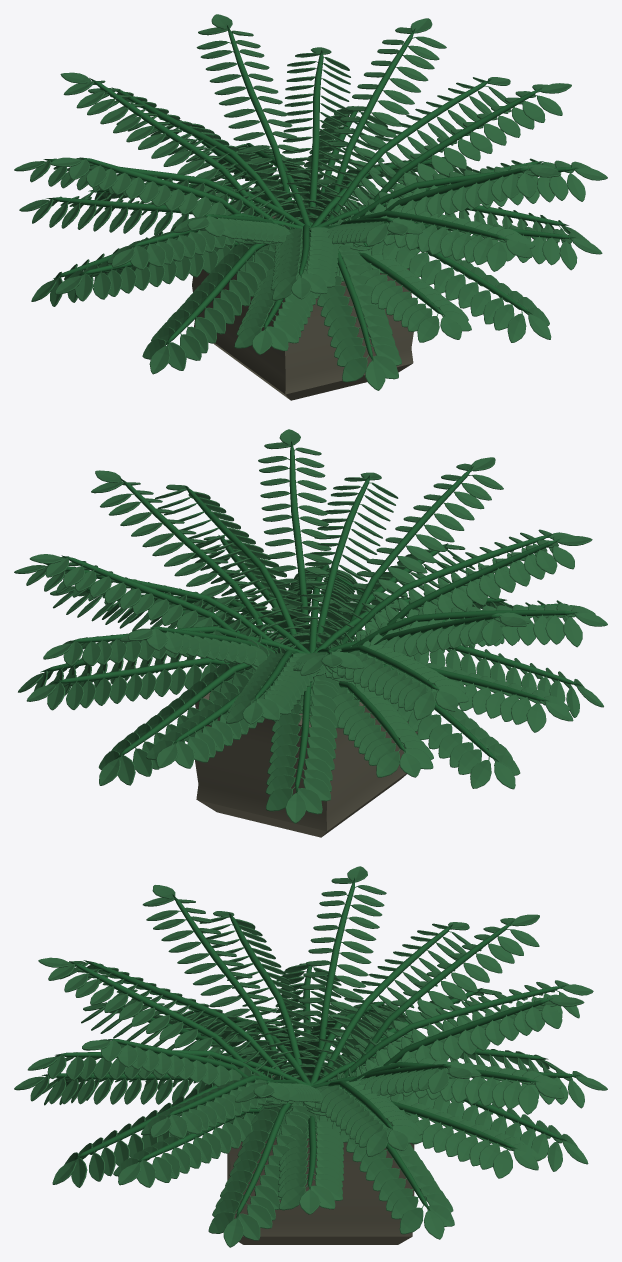
Rendered from plant 3 ferns.fbx.
The picture shows the model from 3 angles, top to bottom: view 1: azimuth 30°, elevation 25°; view 2: azimuth 150°, elevation 25°; view 3: azimuth 270°, elevation 25°; orthographic projection. The views are drawn at different scales.
Visible parts, largest first — view 1: group34_pCube81; view 2: group34_pCube81; view 3: group34_pCube81.
Part boxes in pixels (x1,y1,x2,y2): group34_pCube81: (14,14,607,400); group34_pCube81: (14,429,607,837); group34_pCube81: (14,866,607,1247).
Bounding box in the file's own units: 85.05 × 38.17 × 85.12.
